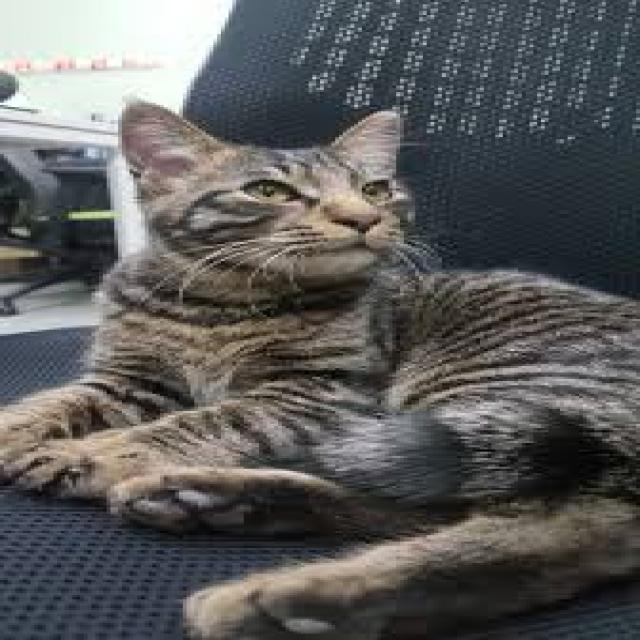cat-face: (54, 73, 502, 290)
